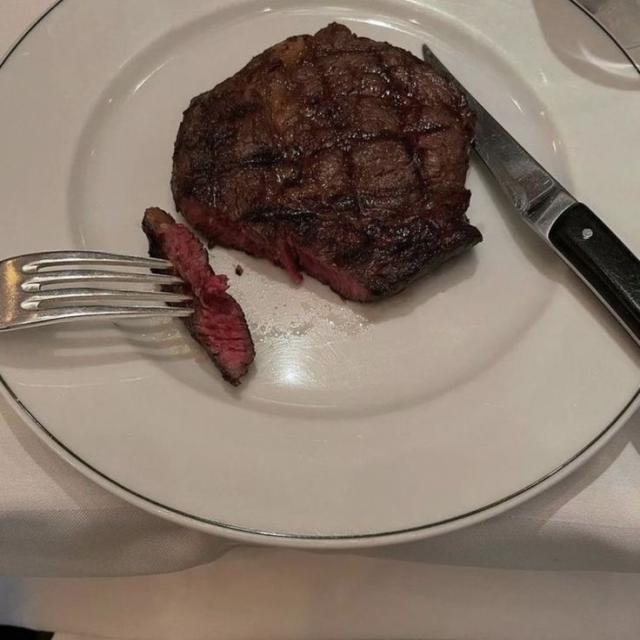beef steak: (170, 23, 482, 301), (142, 207, 254, 385)
